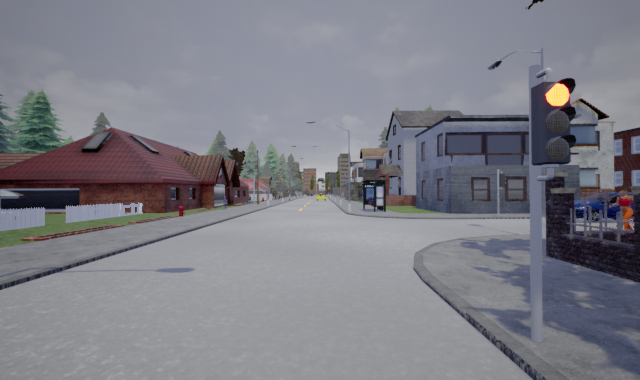pedestrian: (608, 184, 639, 239)
traffic_light: (530, 77, 577, 166)
vehicle: (550, 192, 639, 223)
